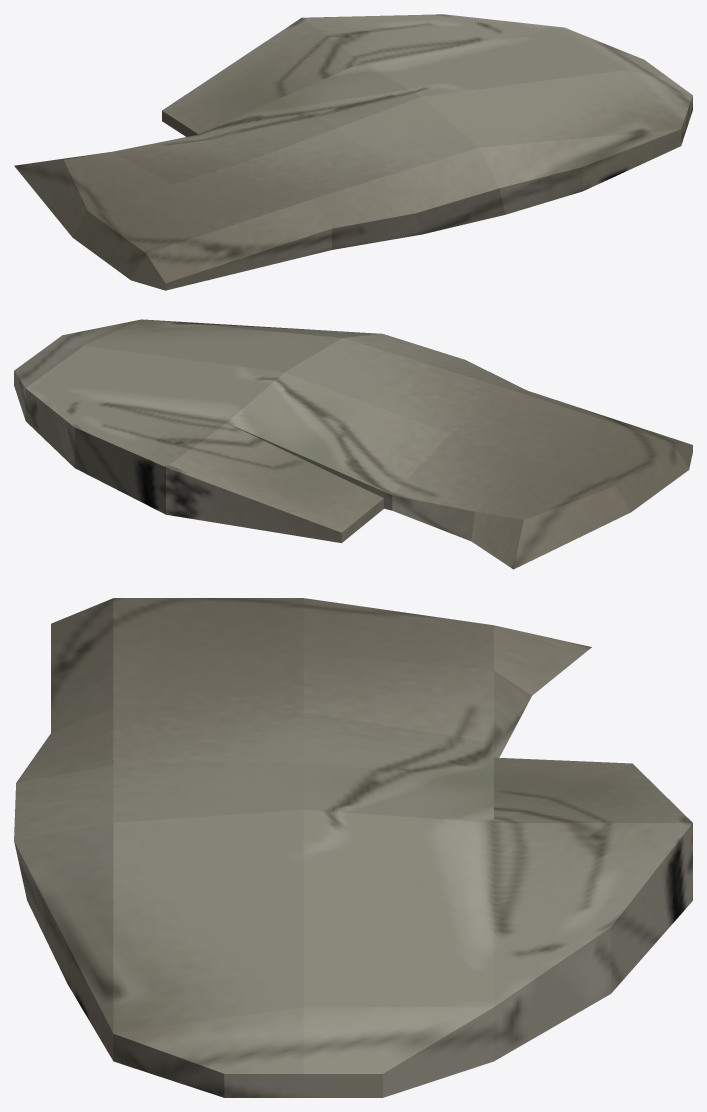
The model's file is Jacket1.fbx.
3 views of the same model, one above another, from view 1: azimuth 30°, elevation 25°; view 2: azimuth 150°, elevation 25°; view 3: azimuth 270°, elevation 25° (orthographic). The views are drawn at different scales.
Visible parts, largest first — view 1: Jacket; view 2: Jacket; view 3: Jacket.
Part boxes in pixels (<box>): Jacket: <box>14,14,692,290</box>; Jacket: <box>14,319,692,569</box>; Jacket: <box>14,598,692,1097</box>.
Size of the model in its own units: 113 by 11.46 by 68.25.
